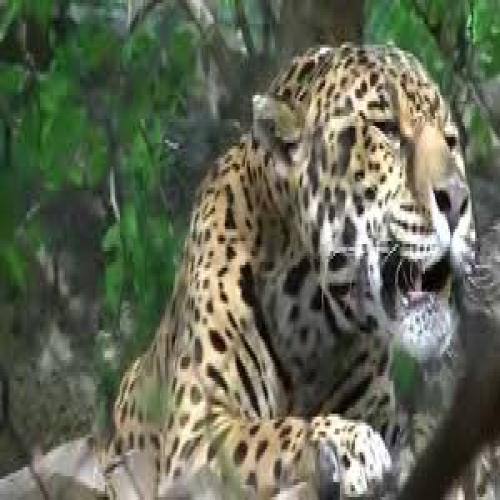jaguar_not-endangered: (113, 47, 474, 500)
